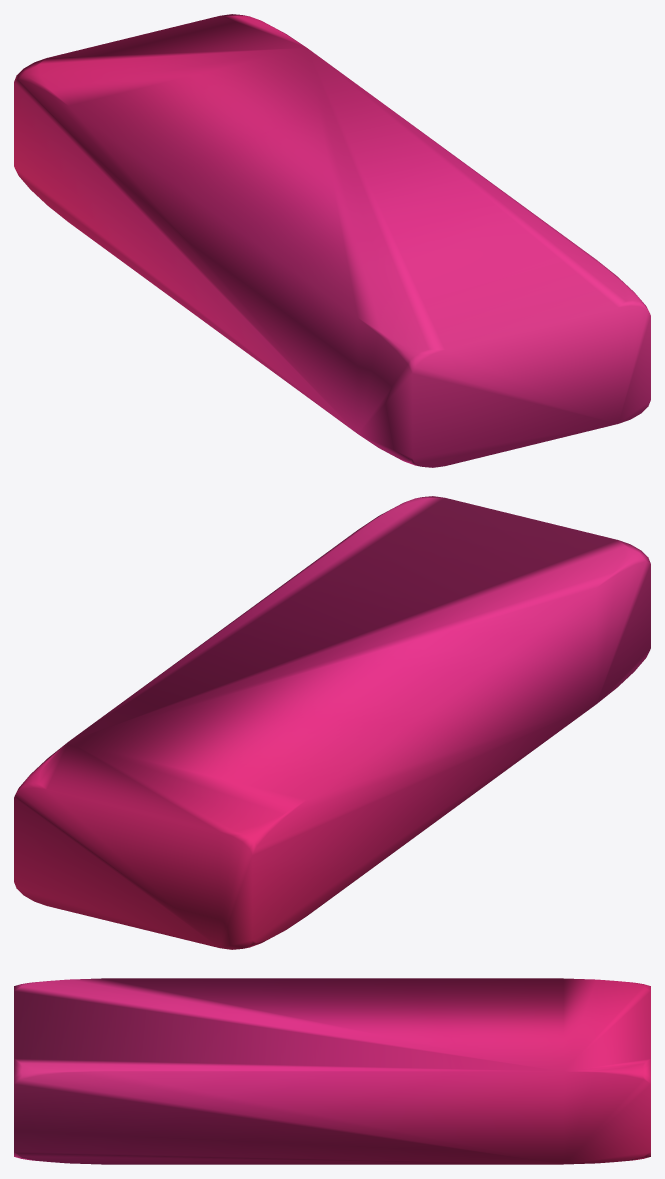
File: tahta.fbx
3 renders of one model, top to bottom at view 1: azimuth 30°, elevation 25°; view 2: azimuth 150°, elevation 25°; view 3: azimuth 270°, elevation 25°, orthographic. The views are drawn at different scales.
Parts seen in each view (by area): view 1: sandalye_tüm.001; view 2: sandalye_tüm.001; view 3: sandalye_tüm.001.
Part boxes in pixels (box(x1,y1,x2,y2)): sandalye_tüm.001: box(14, 14, 650, 467); sandalye_tüm.001: box(14, 496, 650, 949); sandalye_tüm.001: box(14, 978, 650, 1164).
Size of the model in its own units: 71.24 by 33.24 by 206.
1 material, 1 textured.
